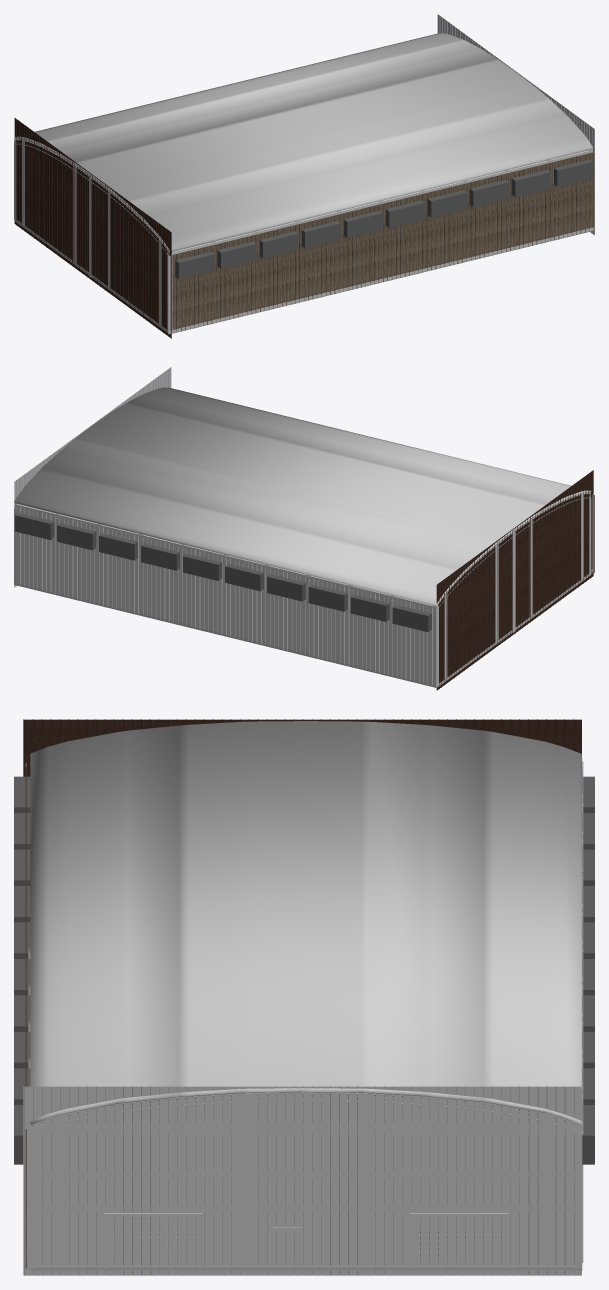
File: ScladRazborka (2).fbx
3 renders of one model, top to bottom at view 1: azimuth 30°, elevation 25°; view 2: azimuth 150°, elevation 25°; view 3: azimuth 270°, elevation 25°, orthographic. The views are drawn at different scales.
Parts seen in each view (by area): view 1: Plane.125, Plane.017, Plane.015, Plane.773, Plane.020, Plane.016, Plane.126, Plane.238, Plane.228, Plane.230, Plane.232, Plane.244 (+5 smaller); view 2: Plane.125, Plane.226, Plane.015, Plane.126, Plane.750, Plane.016, Plane.012, Plane.002, Plane.003, Plane.010, Plane.011, Plane.005 (+5 smaller); view 3: Plane.125, Plane.016, Plane.015, Plane.126, Plane.767, Plane.763, Plane.770, Plane.764, Plane.798, Plane.829, Plane.226, Plane.801 (+2 smaller).
Part boxes in pixels (left/top/right/bottom): Plane.125: left=14, top=33, right=592, bottom=252; Plane.017: left=172, top=152, right=594, bottom=332; Plane.015: left=14, top=118, right=171, bottom=338; Plane.773: left=168, top=150, right=592, bottom=255; Plane.020: left=170, top=227, right=593, bottom=333; Plane.016: left=437, top=14, right=594, bottom=235; Plane.126: left=14, top=220, right=592, bottom=333; Plane.238: left=385, top=200, right=424, bottom=227; Plane.228: left=175, top=251, right=214, bottom=279; Plane.230: left=217, top=241, right=256, bottom=268; Plane.232: left=259, top=231, right=298, bottom=258; Plane.244: left=511, top=169, right=550, bottom=196; Plane.125: left=14, top=387, right=591, bottom=606; Plane.226: left=16, top=506, right=436, bottom=686; Plane.015: left=436, top=470, right=593, bottom=690; Plane.126: left=14, top=574, right=591, bottom=687; Plane.750: left=14, top=504, right=438, bottom=609; Plane.016: left=14, top=367, right=171, bottom=587; Plane.012: left=392, top=605, right=431, bottom=632; Plane.002: left=57, top=523, right=96, bottom=550; Plane.003: left=15, top=512, right=54, bottom=539; Plane.010: left=308, top=584, right=347, bottom=611; Plane.011: left=350, top=594, right=389, bottom=621; Plane.005: left=141, top=543, right=179, bottom=570; Plane.125: left=30, top=721, right=581, bottom=1124; Plane.016: left=23, top=1086, right=581, bottom=1275; Plane.015: left=23, top=719, right=581, bottom=776; Plane.126: left=30, top=1265, right=582, bottom=1270; Plane.767: left=240, top=1093, right=250, bottom=1265; Plane.763: left=362, top=1093, right=372, bottom=1265; Plane.770: left=57, top=1113, right=67, bottom=1265; Plane.764: left=545, top=1113, right=554, bottom=1265; Plane.798: left=574, top=1128, right=582, bottom=1268; Plane.829: left=28, top=1128, right=35, bottom=1268; Plane.226: left=582, top=761, right=583, bottom=1262; Plane.801: left=41, top=1124, right=574, bottom=1133.
Bounding box in the file's own units: 22340 × 5323 × 14829.
